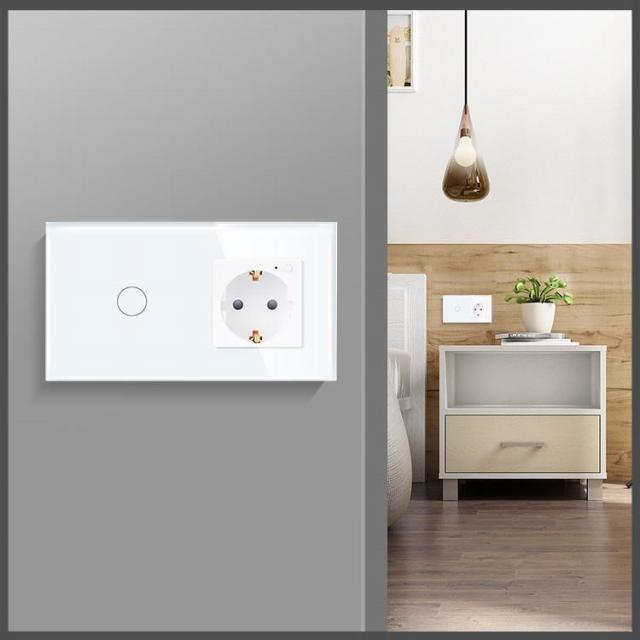typeb: (212, 258, 304, 352)
